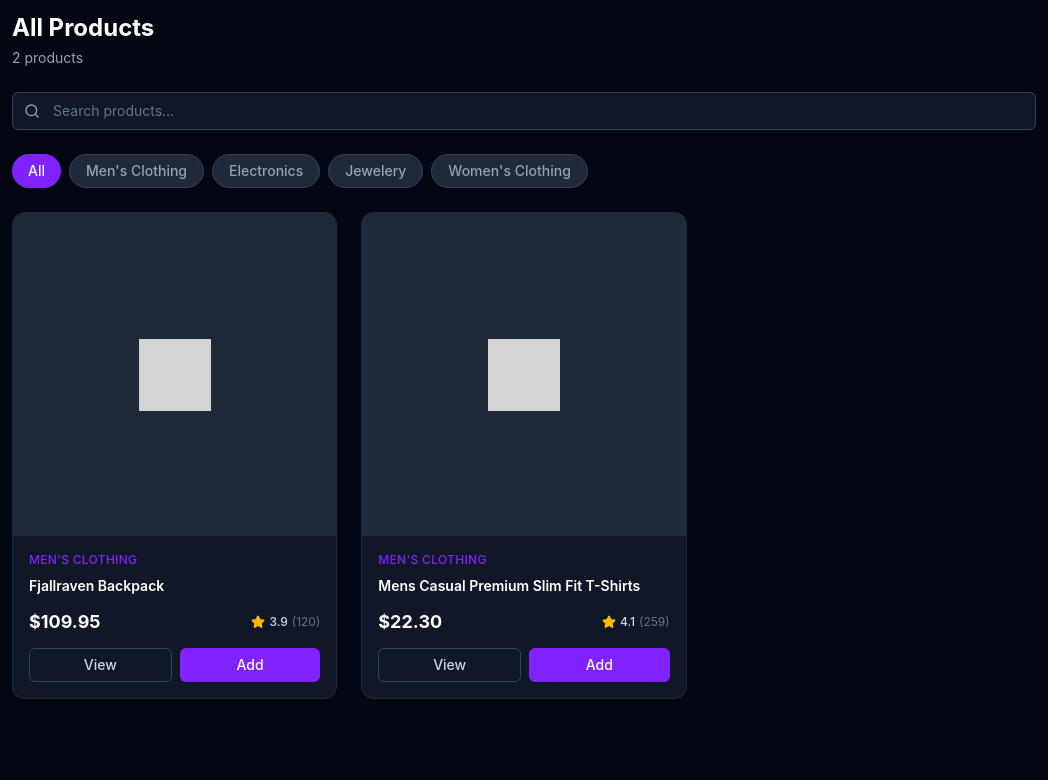
ProductsPage › filters products by category when a filter button is clicked
The width and height of the screenshot is (1048, 780).
Expected: the heading "Fjallraven Backpack" is shown, [29,577,164,594]
Click the button "electronics": (266, 171) [212,154,320,188]
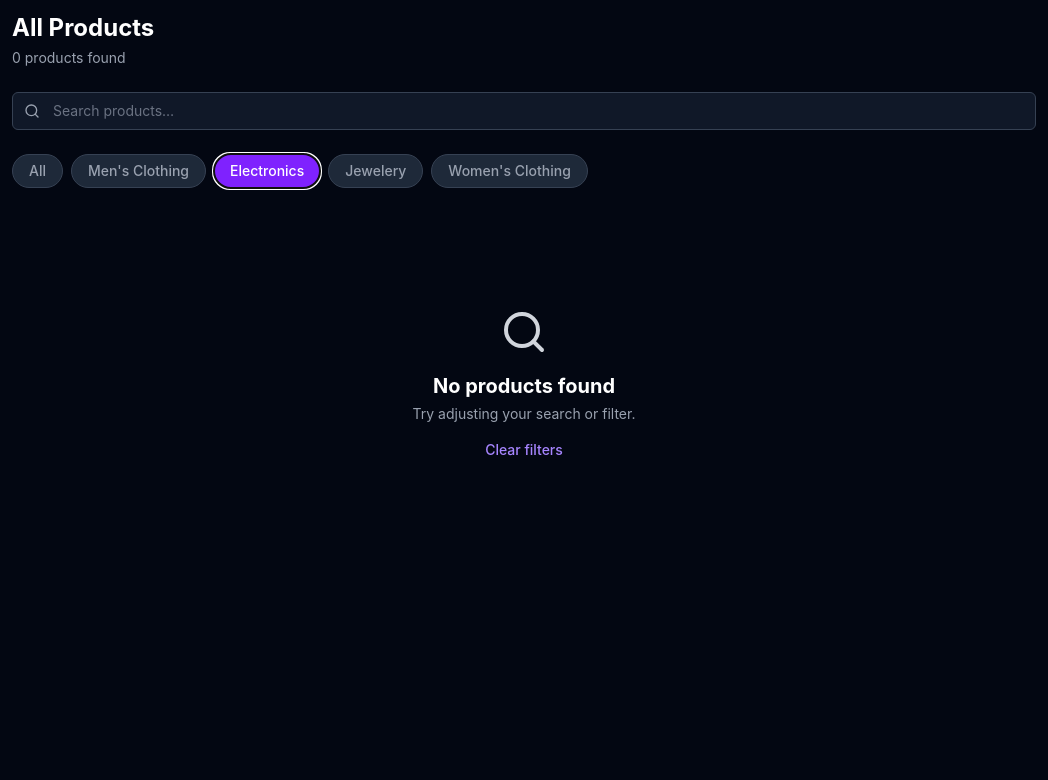
Now the heading "Fjallraven Backpack" is gone
Now the heading "No products found" is shown, box [433,372,615,400]
